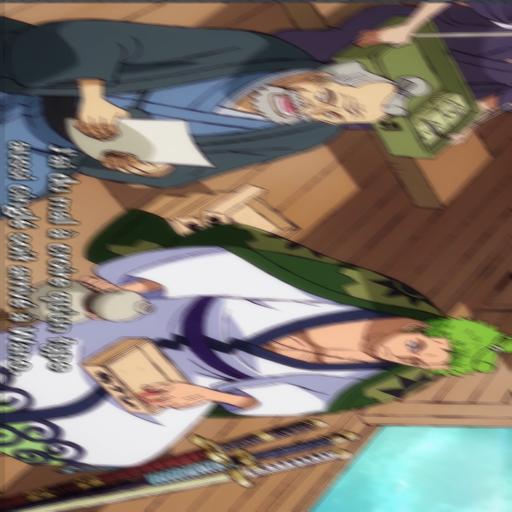Zoro: (0, 228, 510, 471)
